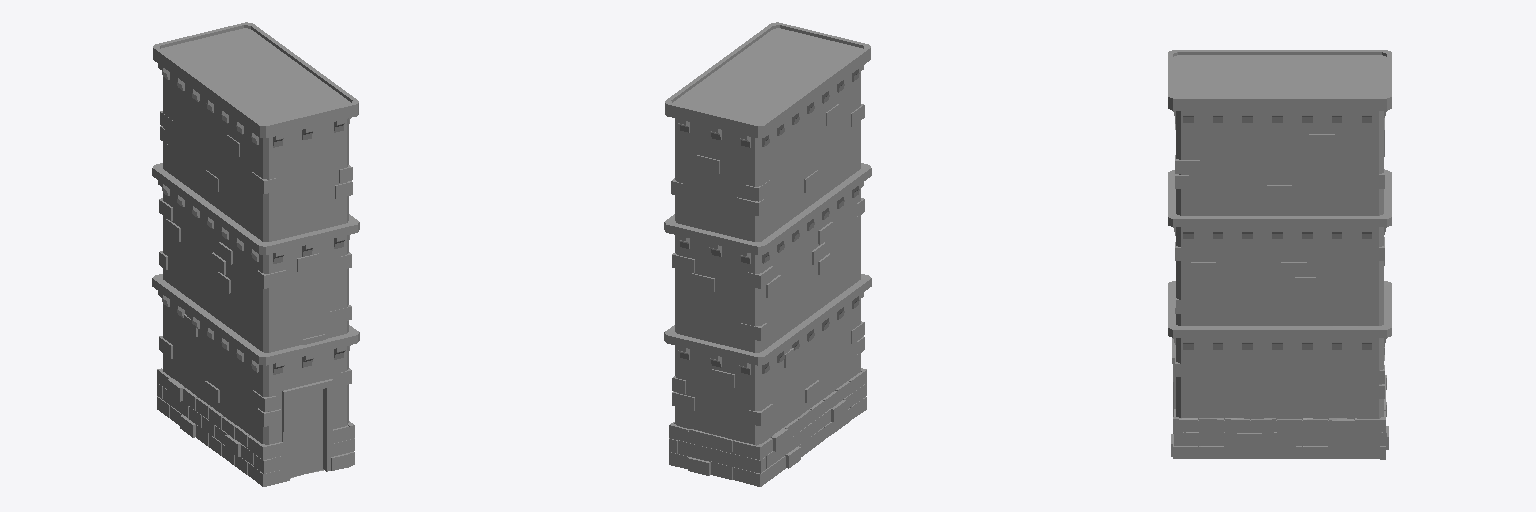
The model's file is 3Story_Slim_Base.obj.
The picture shows the model from 3 angles: view 1: azimuth 30°, elevation 25°; view 2: azimuth 150°, elevation 25°; view 3: azimuth 270°, elevation 25°; orthographic projection.
Visible parts, largest first — view 1: 3Story_Slim_Base_Cube.049; view 2: 3Story_Slim_Base_Cube.049; view 3: 3Story_Slim_Base_Cube.049.
Boxes of the visible parts, x1=… form: 3Story_Slim_Base_Cube.049: x1=152, y1=22, x2=359, y2=486; 3Story_Slim_Base_Cube.049: x1=664, y1=22, x2=871, y2=486; 3Story_Slim_Base_Cube.049: x1=1168, y1=50, x2=1391, y2=459.
Bounding box in the file's own units: 1.12 × 3.86 × 2.15.